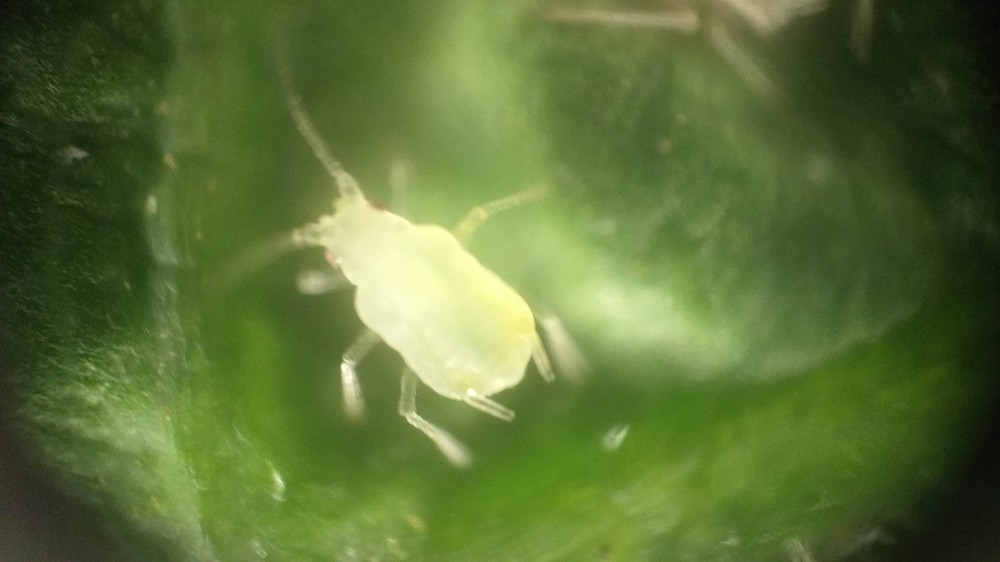Pulgon: (141, 84, 670, 480)
